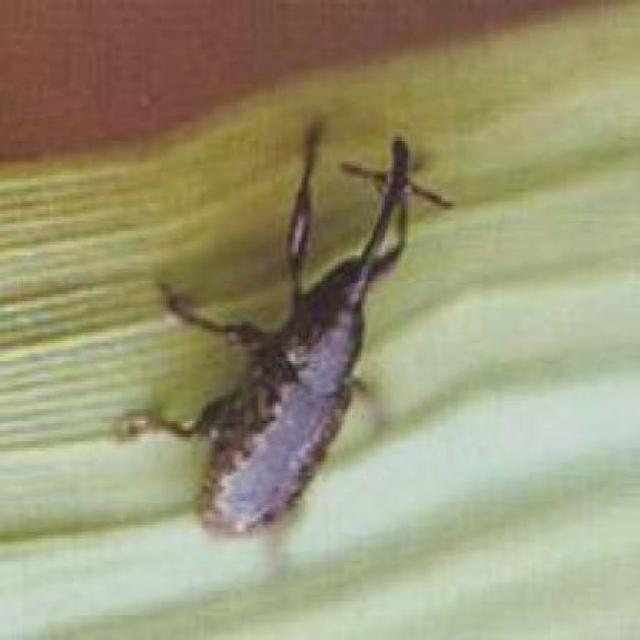rice-bug: (152, 137, 451, 548)
